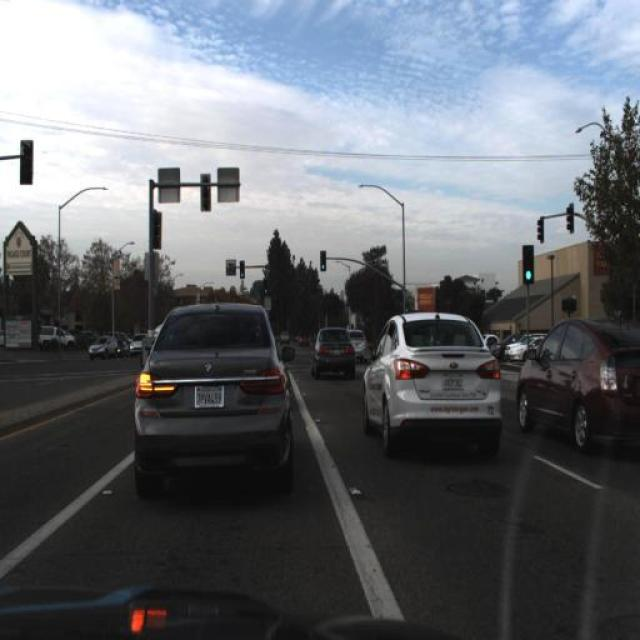car: (135, 306, 290, 483), (362, 296, 508, 452), (516, 312, 638, 454), (309, 325, 355, 386), (395, 315, 434, 365), (509, 336, 543, 365), (344, 318, 368, 358), (342, 329, 368, 365), (39, 324, 75, 348), (85, 330, 116, 356), (128, 330, 144, 356), (278, 322, 294, 348), (299, 327, 316, 348)
trafficLight-Green: (18, 137, 32, 185), (200, 170, 215, 210), (564, 197, 578, 237), (151, 212, 164, 248), (538, 219, 551, 245)
trafficLight-GreenLeft: (522, 246, 534, 282), (321, 246, 332, 274), (241, 257, 251, 279), (262, 275, 272, 296), (321, 249, 329, 270), (406, 294, 414, 314)
